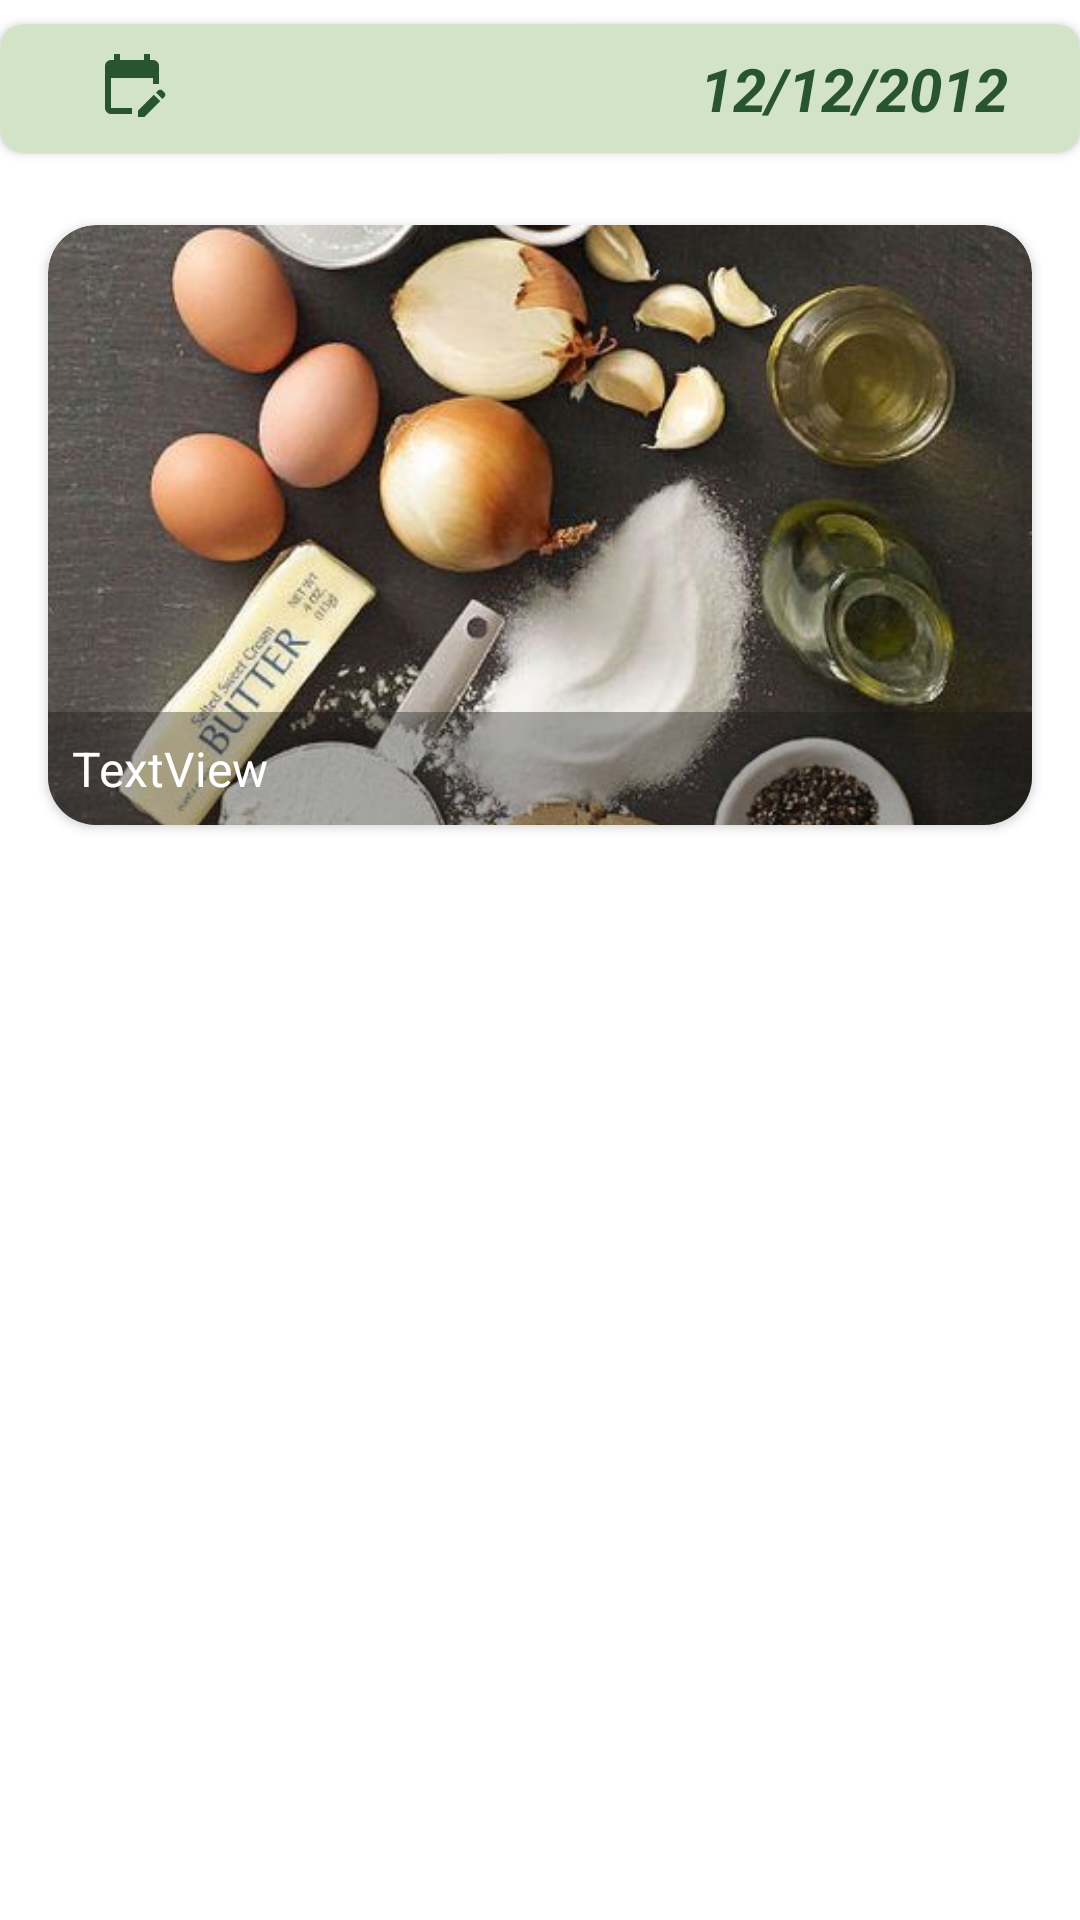

Named icons in this screenshot (1080x1920) and their bounding boxes, bbox=(x1, y1, x2, y2):
calendar: bbox=(105, 54, 166, 117)
